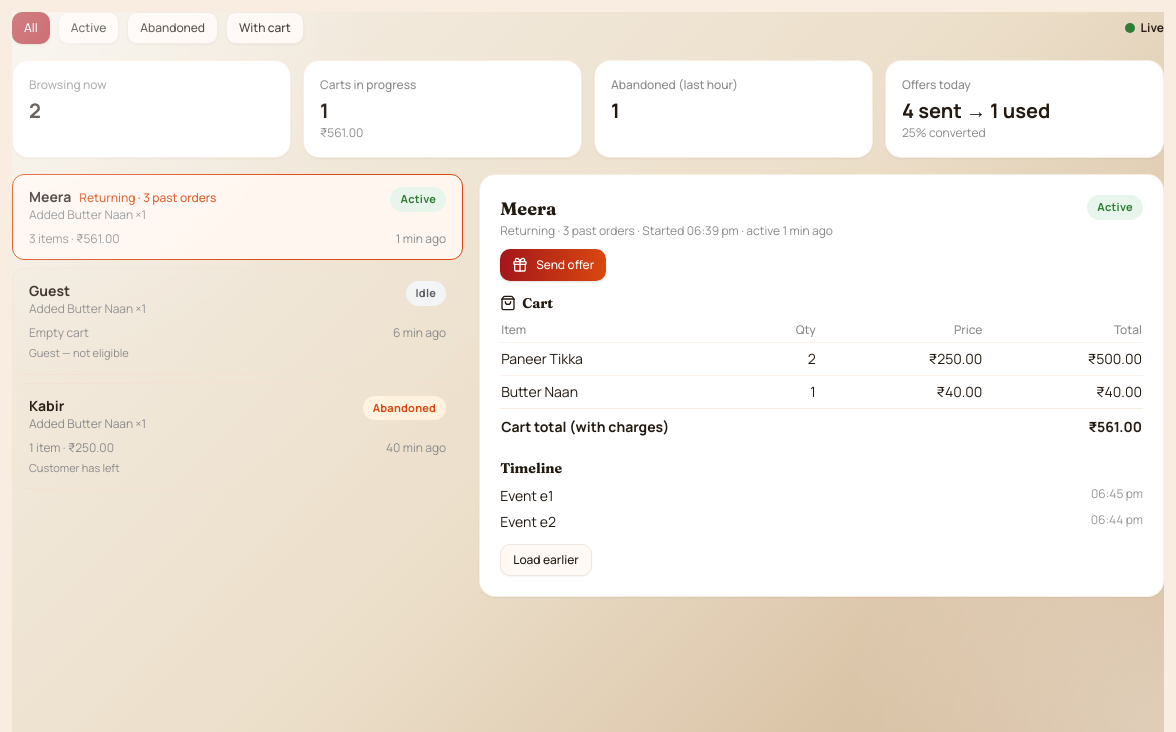
Test case: live dashboard › filters: Abandoned asks the API for abandoned; With cart hides empty carts
Expected: the list named "Customers browsing now" is shown, [12,174,463,489]
Click the button "Abandoned" at (173, 28), box [127,12,218,44]
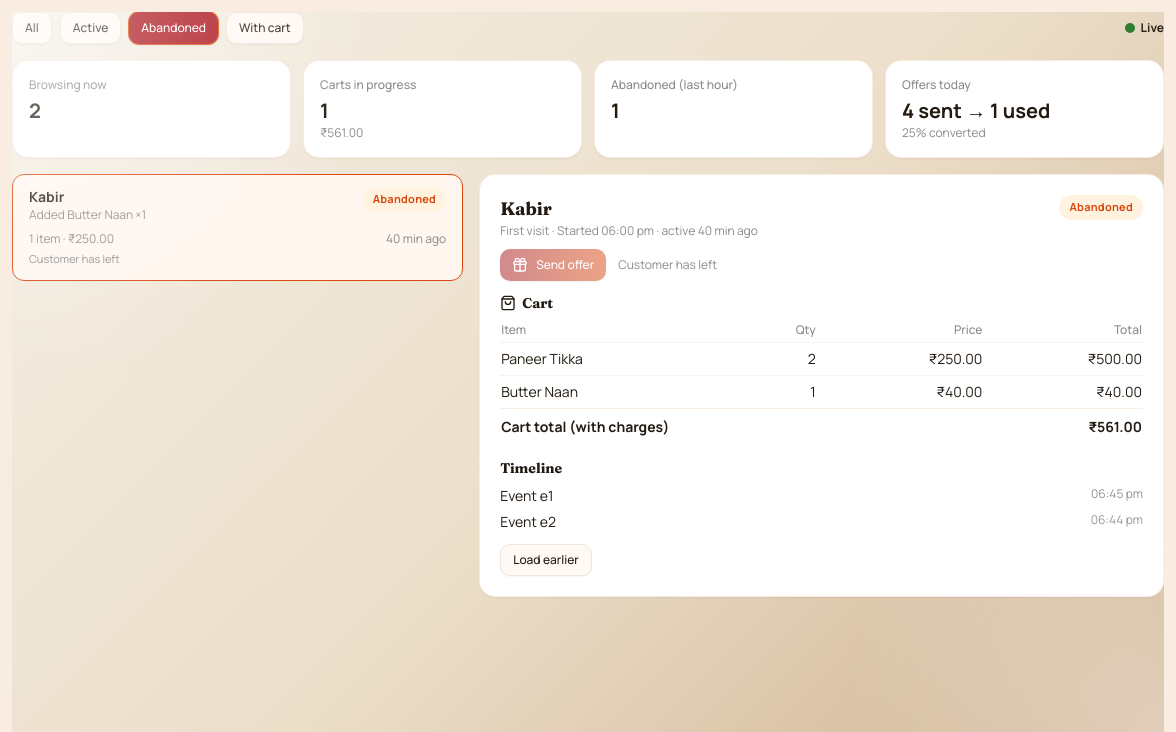
Result: the number of options is 1 at [12,174,463,280]
Click the button "With cart" at (265, 28), box [226,12,304,44]
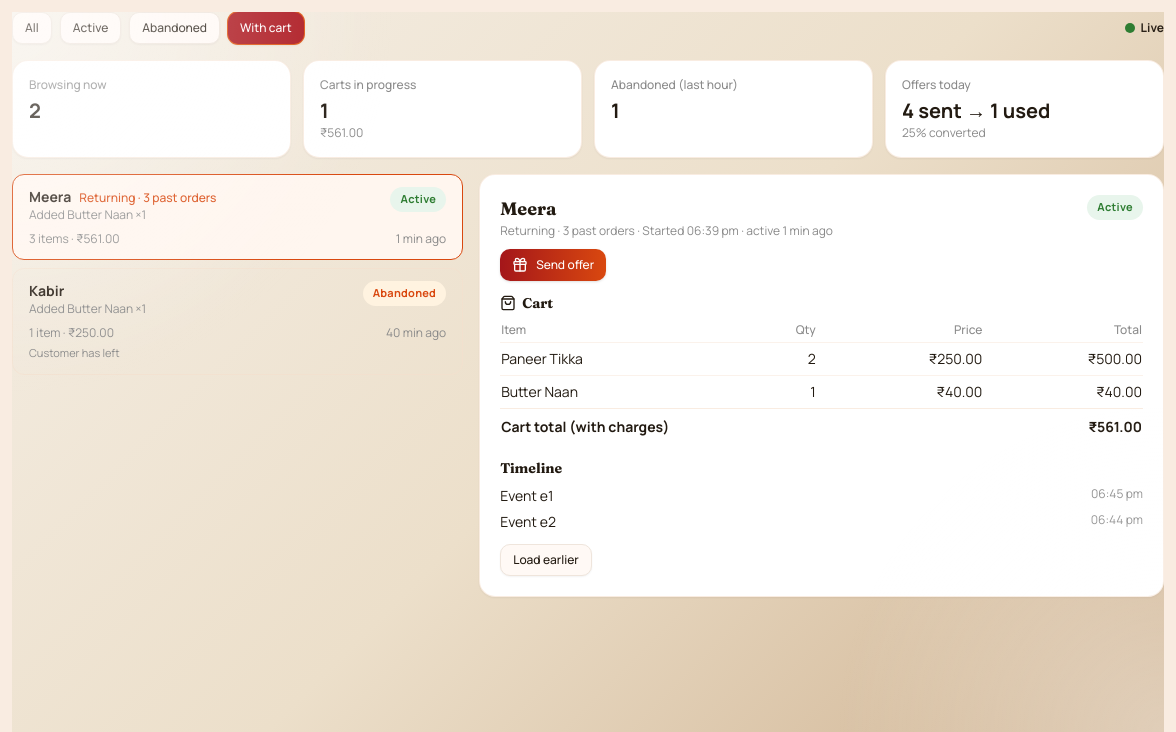
Result: the number of options is 2 at [12,174,463,260]; [12,268,463,374]
